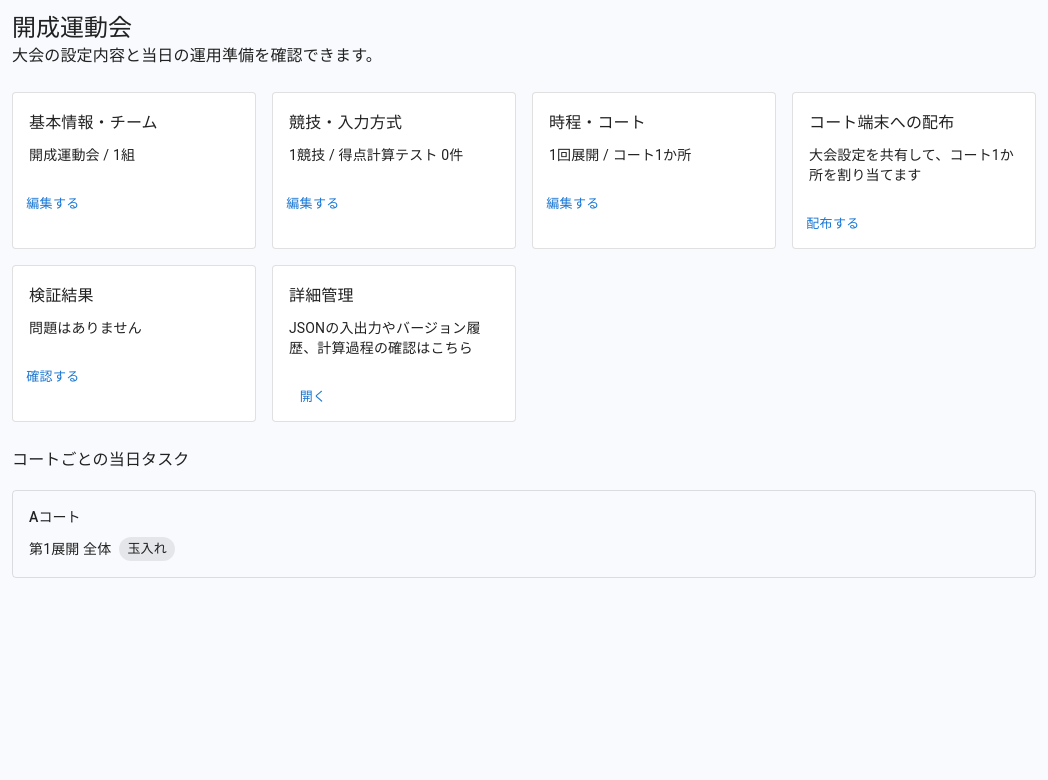
TournamentSettingsHome › hides JSON import/export and version details until 詳細管理 is opened
Expected: the text "詳細管理コンテンツ" is not shown
Step 1. Click the button "開く" → (313,397), box top-left (281, 382), bottom-right (345, 413)
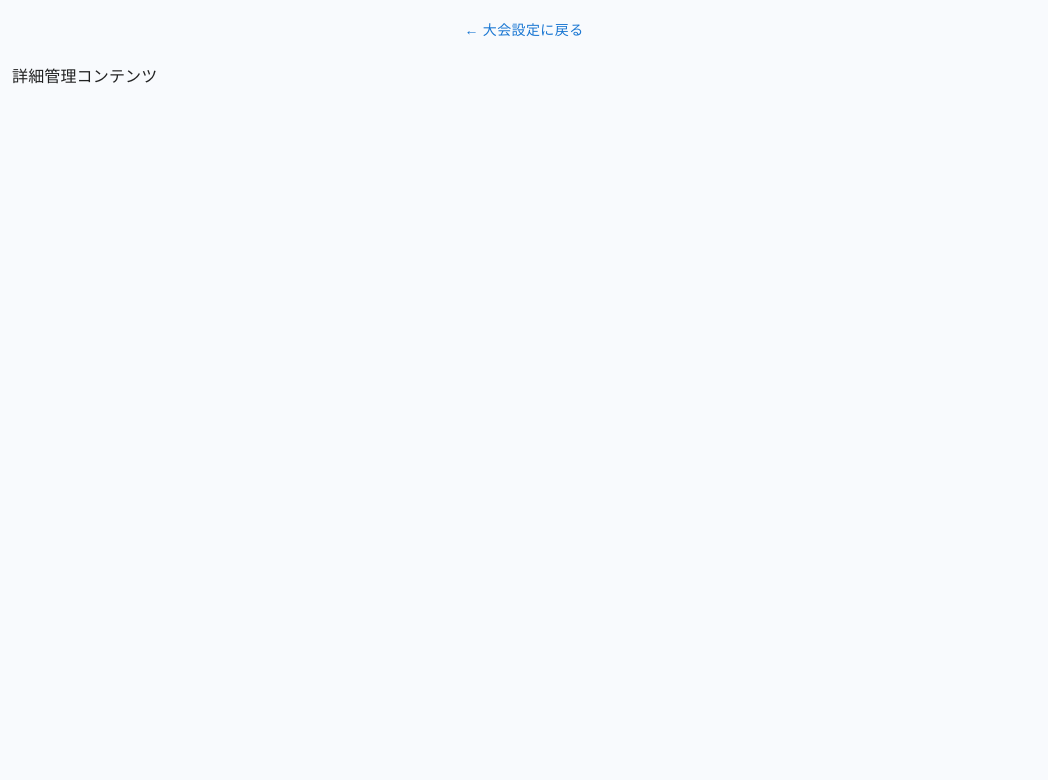
Expected: the text "詳細管理コンテンツ" is shown, top-left (12, 66), bottom-right (157, 86)
